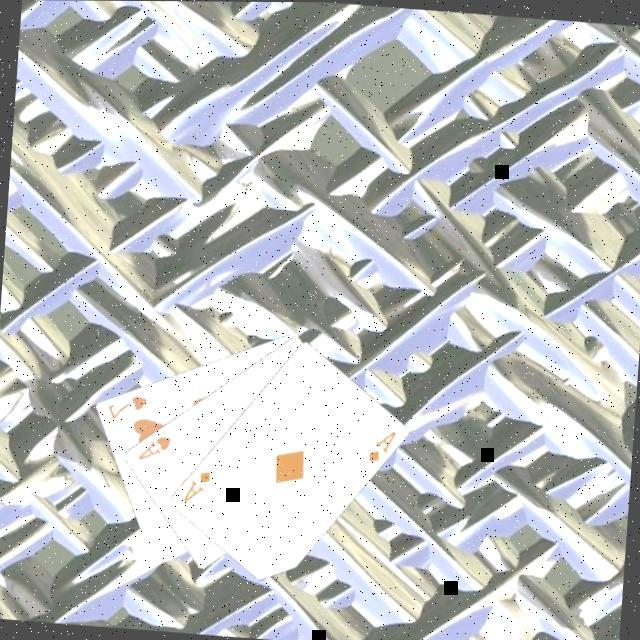7H: (104, 388, 152, 423)
AD: (180, 464, 216, 506), (365, 424, 401, 464)
AH: (136, 430, 176, 464)
